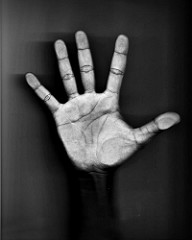palm: (54, 96, 133, 166)
